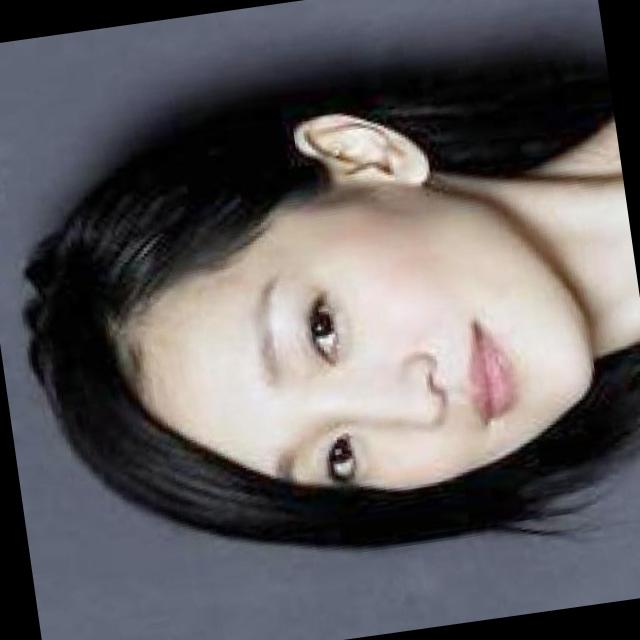bareface: (47, 110, 621, 547)
